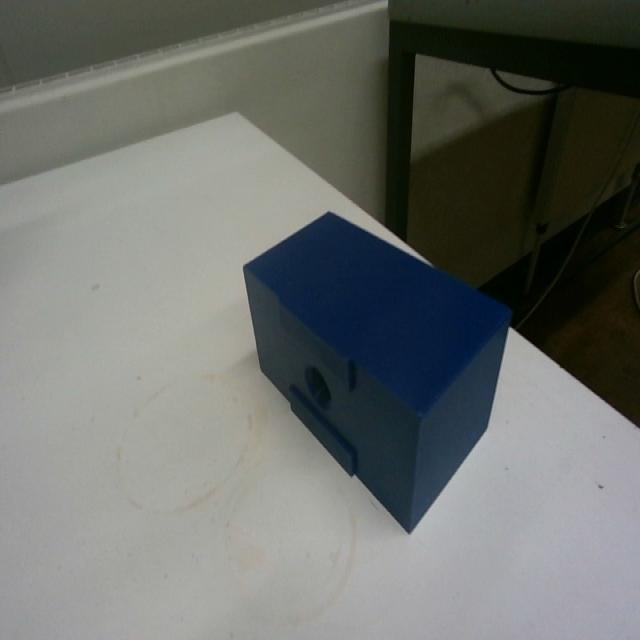Blue Cuboid: (240, 206, 513, 534)
